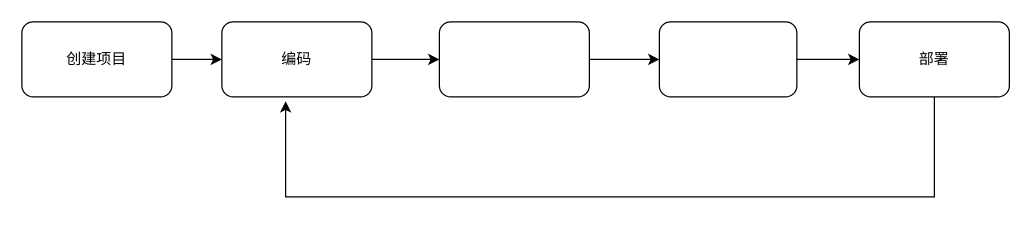
Image size: 1031x229. Some labels were removed from this diagram. The shapes that lost their labels are listed below. From the top down, each one's box as (x1, y1, x2, y2) in pixels, then its label:
(438, 21, 589, 97): 预览、测试
(658, 21, 797, 97): 提交
